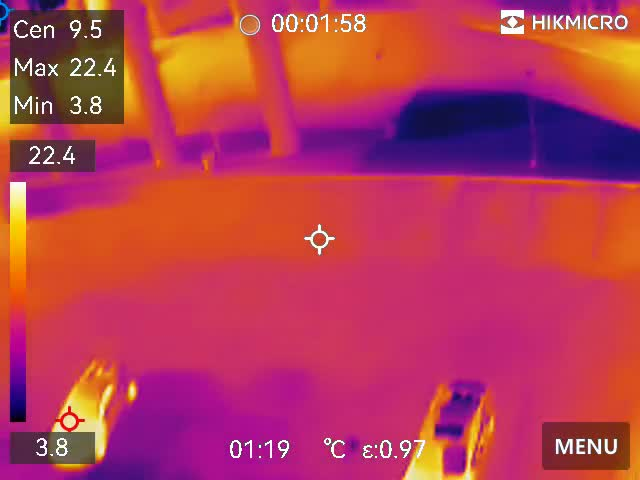smallCar: (400, 371, 496, 480)
vehicle: (41, 355, 140, 472)
